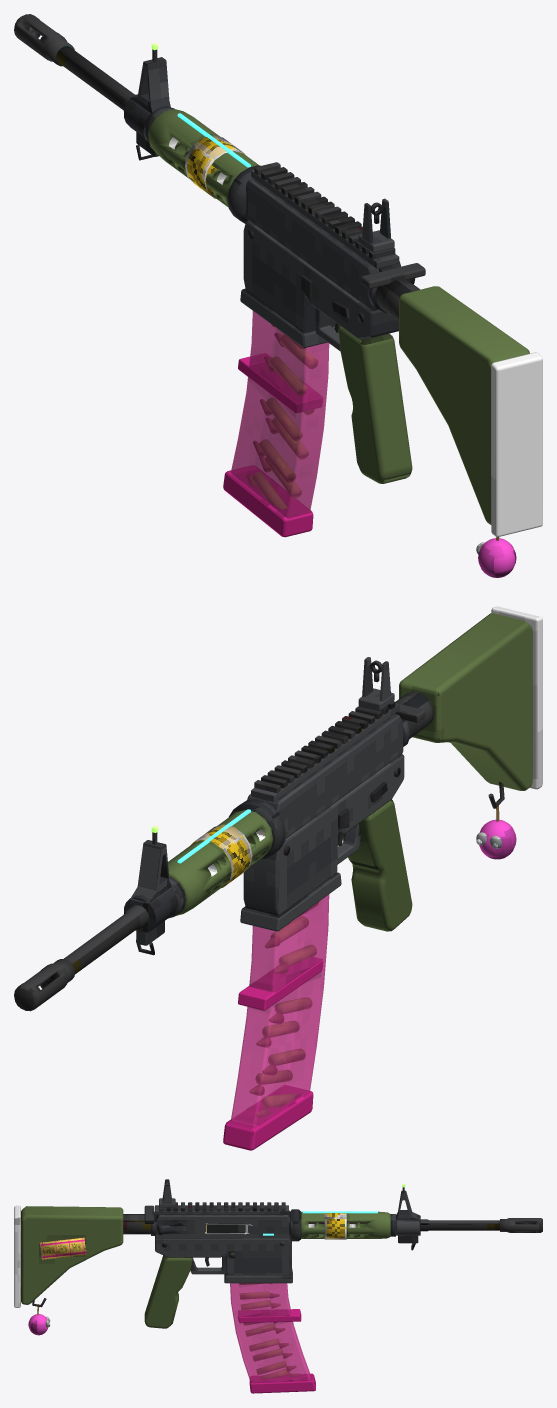
3 renders of one model, top to bottom at view 1: azimuth 30°, elevation 25°; view 2: azimuth 150°, elevation 25°; view 3: azimuth 270°, elevation 25°, orthographic. The views are drawn at different scales.
Visible parts, largest first — view 1: ar_body_wzA, mag_wzB, ar_body_wzB, ar_body_wzN, charge_wzB; view 2: ar_body_wzA, mag_wzB, ar_body_wzB, ar_body_wzN; view 3: ar_body_wzA, mag_wzB, ar_body_wzB, ar_body_wzN.
Boxes of the visible parts, <box> form: ar_body_wzA: <box>148,109,542,536</box>; mag_wzB: <box>223,311,329,537</box>; ar_body_wzB: <box>14,14,419,332</box>; ar_body_wzN: <box>151,43,516,577</box>; charge_wzB: <box>361,263,425,288</box>; ar_body_wzA: <box>168,606,542,931</box>; mag_wzB: <box>223,894,329,1150</box>; ar_body_wzB: <box>14,660,504,1011</box>; ar_body_wzN: <box>151,802,516,887</box>; ar_body_wzA: <box>14,1179,390,1328</box>; mag_wzB: <box>230,1283,315,1393</box>; ar_body_wzB: <box>32,1182,542,1307</box>; ar_body_wzN: <box>28,1184,405,1335</box>.
Size of the model in its own units: 0.0837 by 0.5172 by 1.19.
16 materials, 16 textured.
